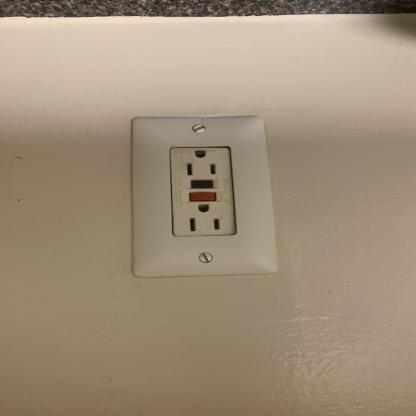OUTLET: (131, 114, 269, 279)
